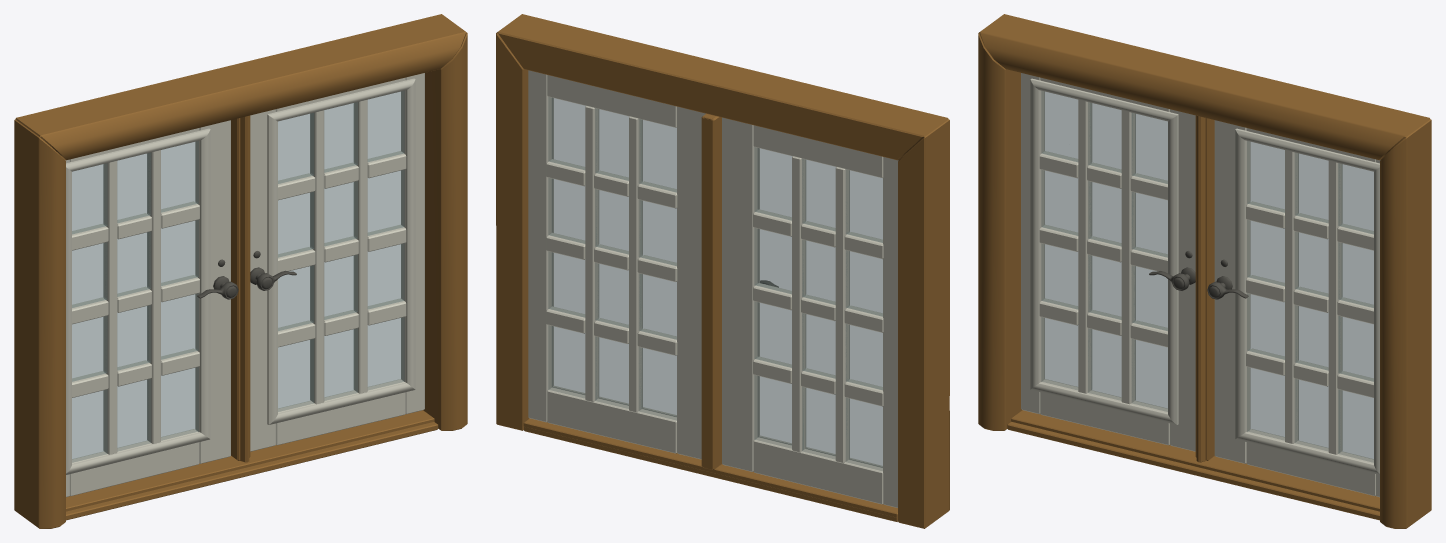
The model's file is FrenchDoor.fbx.
The picture shows the model from 3 angles, left to right: view 1: azimuth 30°, elevation 25°; view 2: azimuth 150°, elevation 25°; view 3: azimuth 330°, elevation 25°; orthographic projection.
Visible parts, largest first — view 1: FrenchDoor_Frame, FrenchDoor_Doors, FrenchDoor_Glass; view 2: FrenchDoor_Doors, FrenchDoor_Frame, FrenchDoor_Glass; view 3: FrenchDoor_Frame, FrenchDoor_Doors, FrenchDoor_Glass.
Boxes of the visible parts, bbox=[...] form: FrenchDoor_Frame: bbox=[14, 14, 467, 528]; FrenchDoor_Doors: bbox=[65, 73, 424, 497]; FrenchDoor_Glass: bbox=[72, 91, 404, 462]; FrenchDoor_Doors: bbox=[528, 70, 898, 507]; FrenchDoor_Frame: bbox=[496, 14, 949, 528]; FrenchDoor_Glass: bbox=[548, 97, 882, 470]; FrenchDoor_Frame: bbox=[978, 14, 1431, 528]; FrenchDoor_Doors: bbox=[1021, 73, 1380, 497]; FrenchDoor_Glass: bbox=[1041, 91, 1373, 462].
Size of the model in its own units: 460 by 402 by 57.96.
